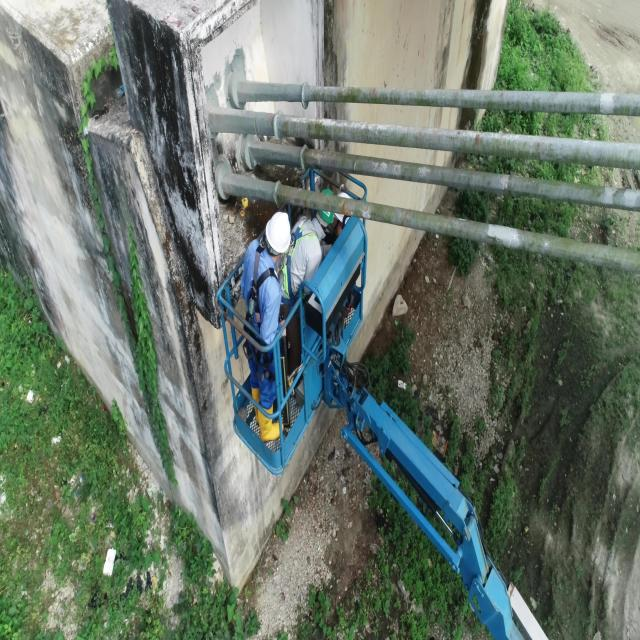corrosion: (474, 134, 482, 144), (341, 202, 345, 216), (347, 209, 352, 216), (372, 87, 375, 98), (535, 142, 540, 148), (500, 91, 503, 98)
crack: (404, 210, 409, 219)
